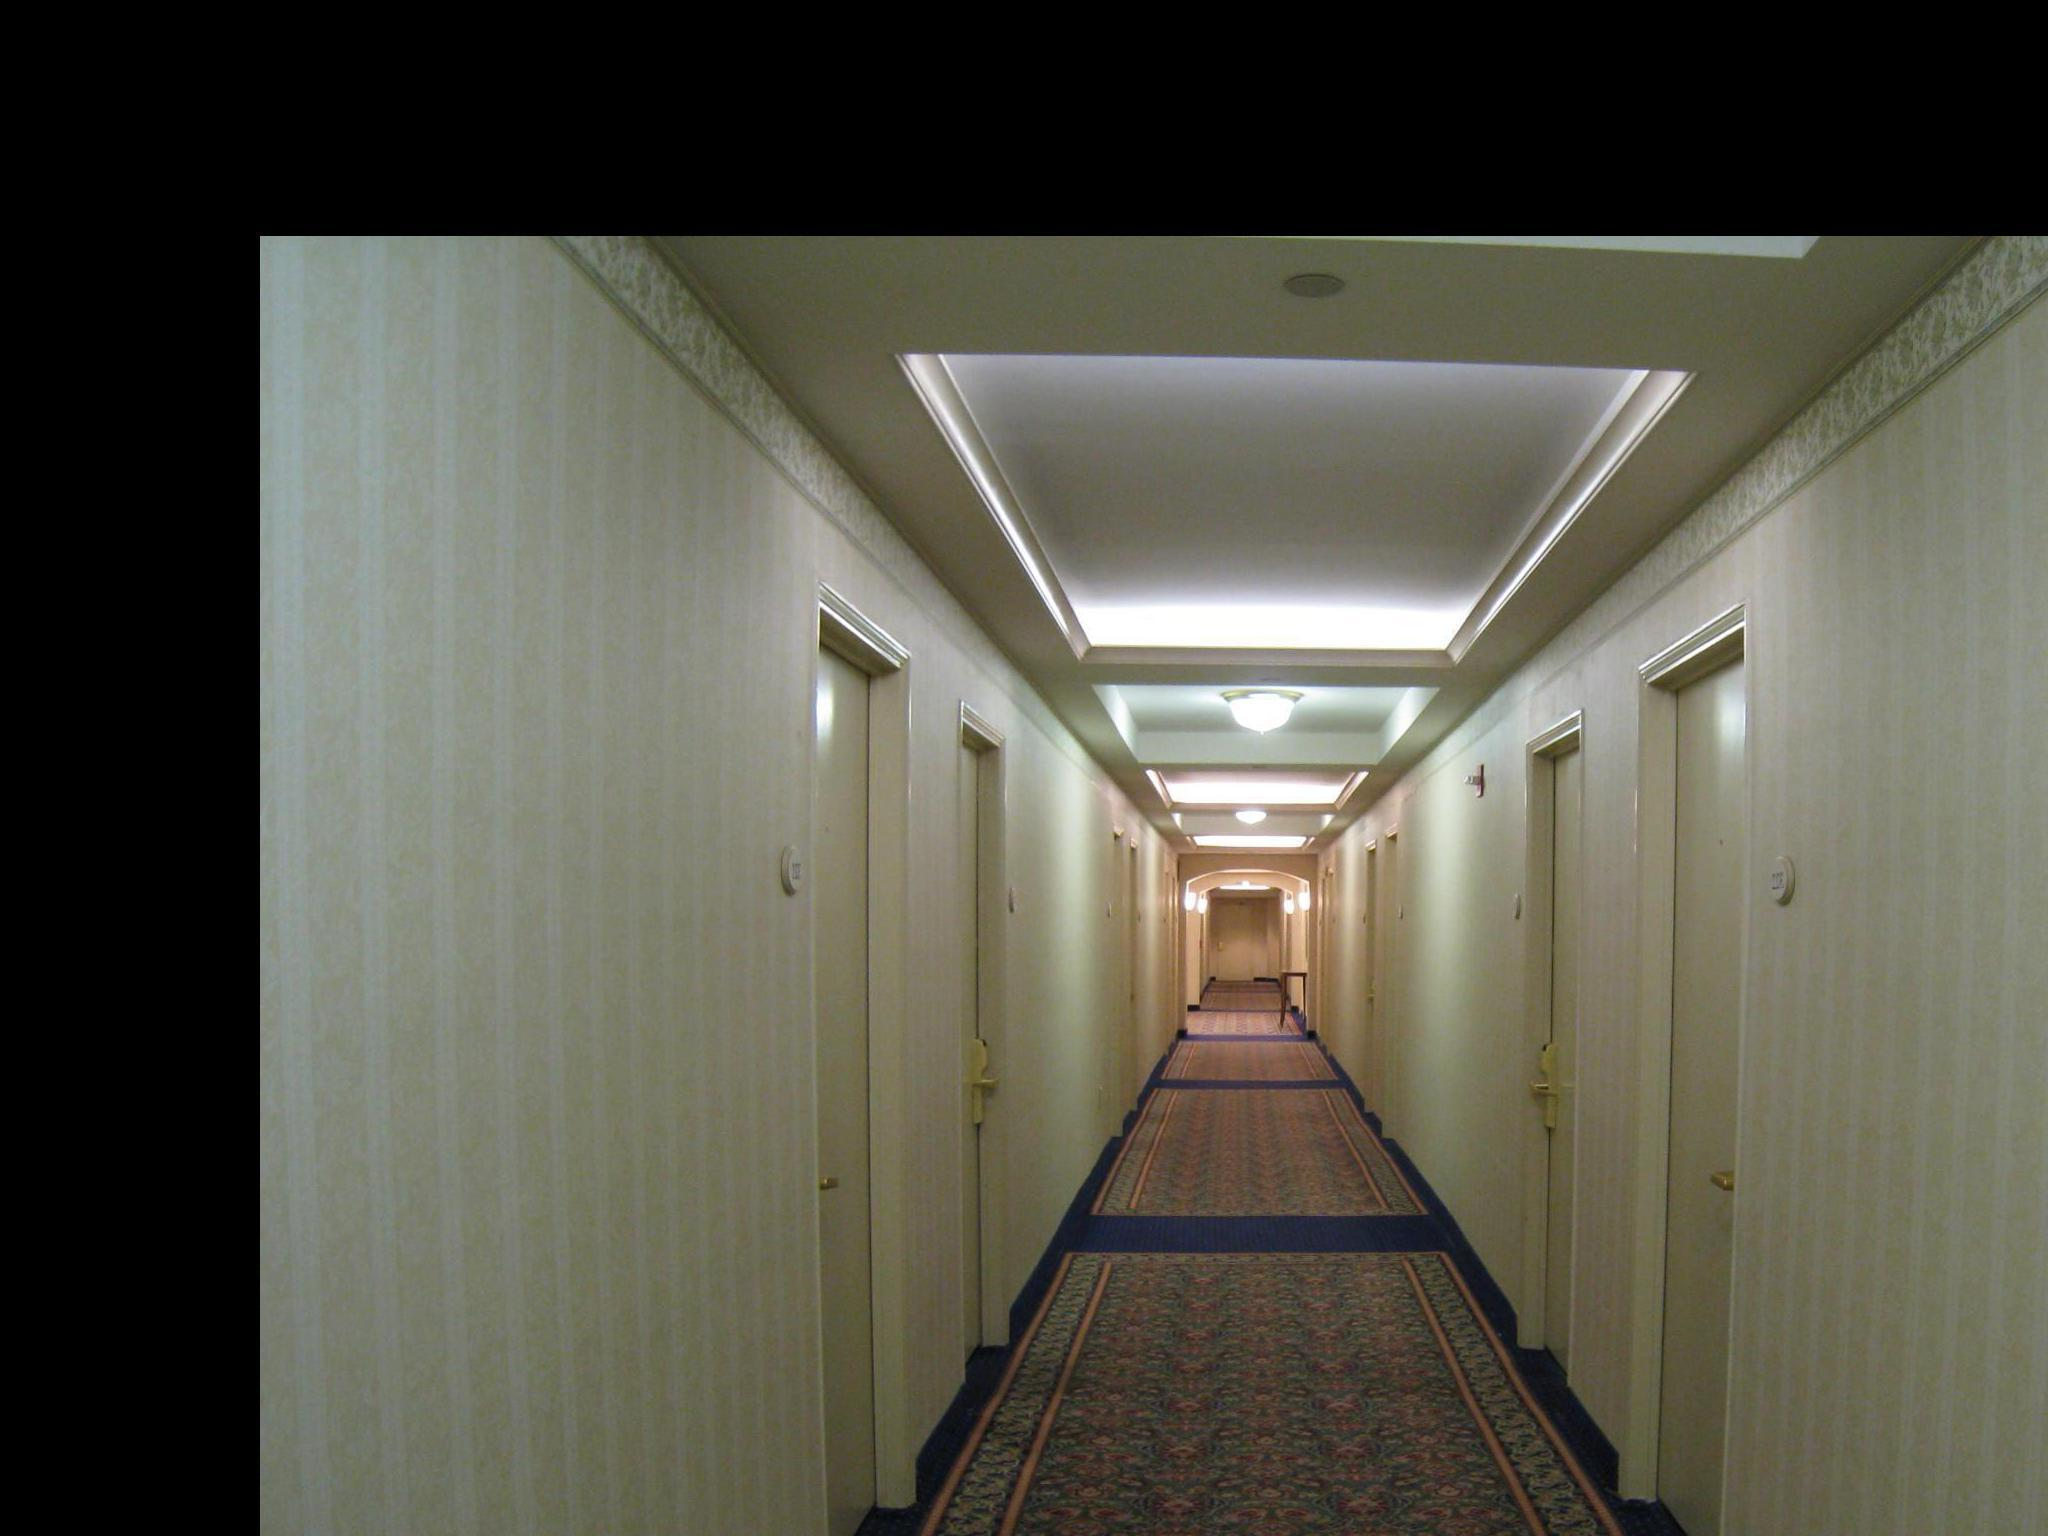Puerta: (1625, 610, 1759, 1518), (805, 615, 911, 1536), (943, 716, 1016, 1373), (1522, 737, 1579, 1389)
